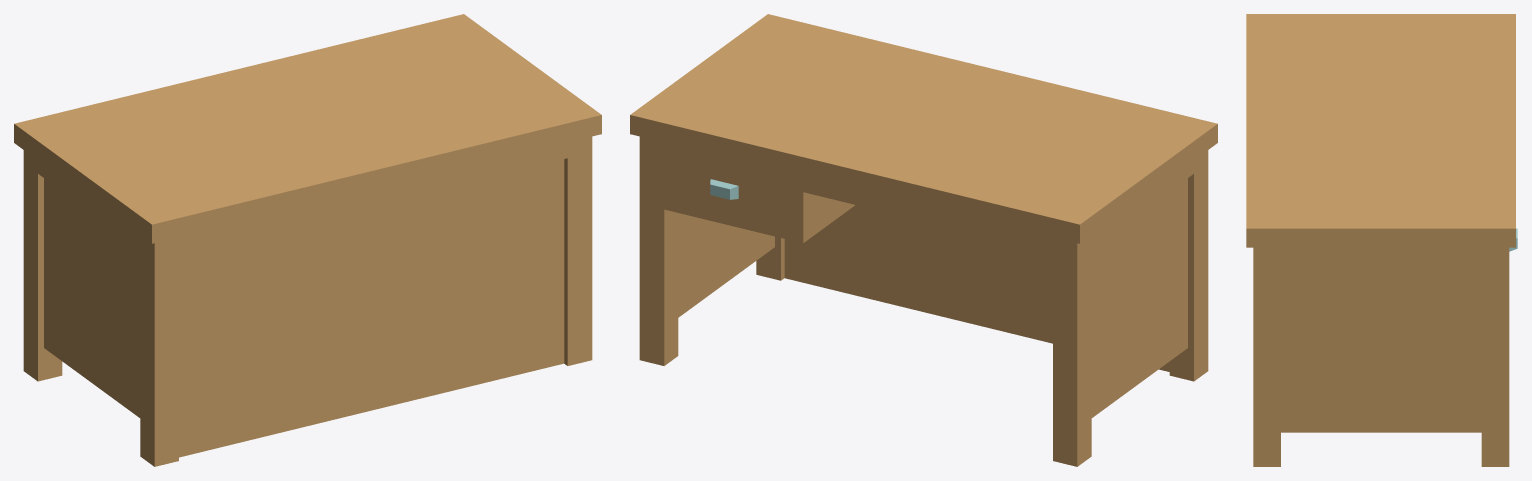
Rendered from desk.glb.
3 views of the same model, side by side, from view 1: azimuth 30°, elevation 25°; view 2: azimuth 150°, elevation 25°; view 3: azimuth 270°, elevation 25° (orthographic). The views are drawn at different scales.
Bounding box in the file's own units: 7.34 × 3.84 × 3.92.
